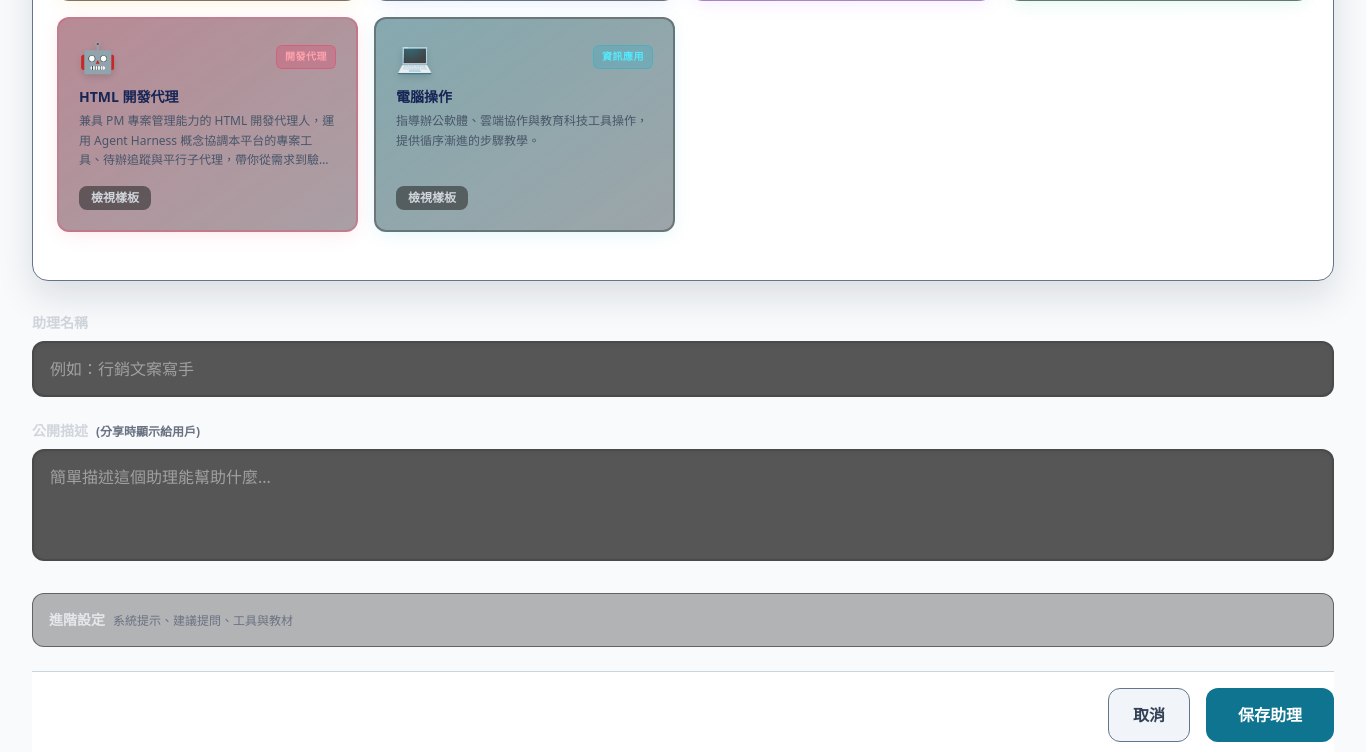
AssistantEditor › shows a retryable save error without dropping the draft
(page scrolled)
Type "保留草稿" into the field labelled "助理名稱" at [683, 368], box [32,340,1334,396]
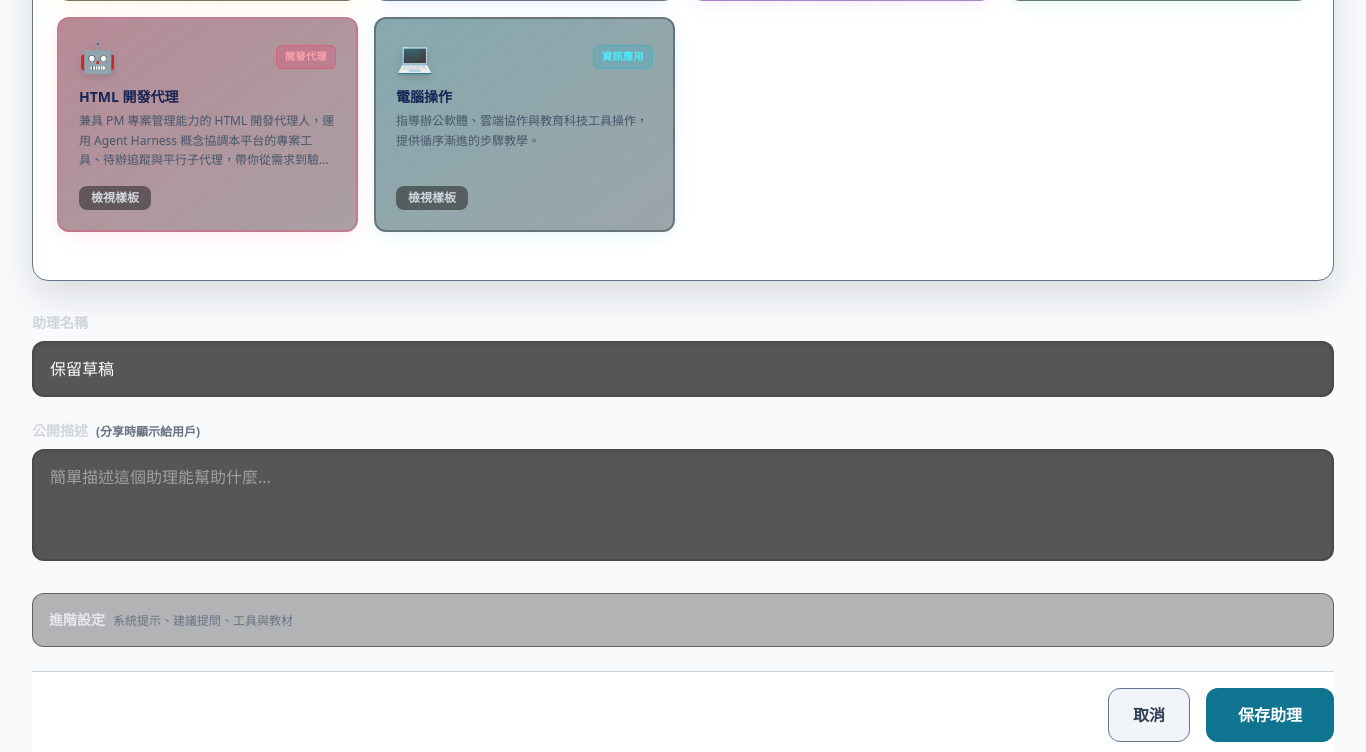
Click the button with test id "save-button" at [1270, 714], box [1206,688,1334,742]
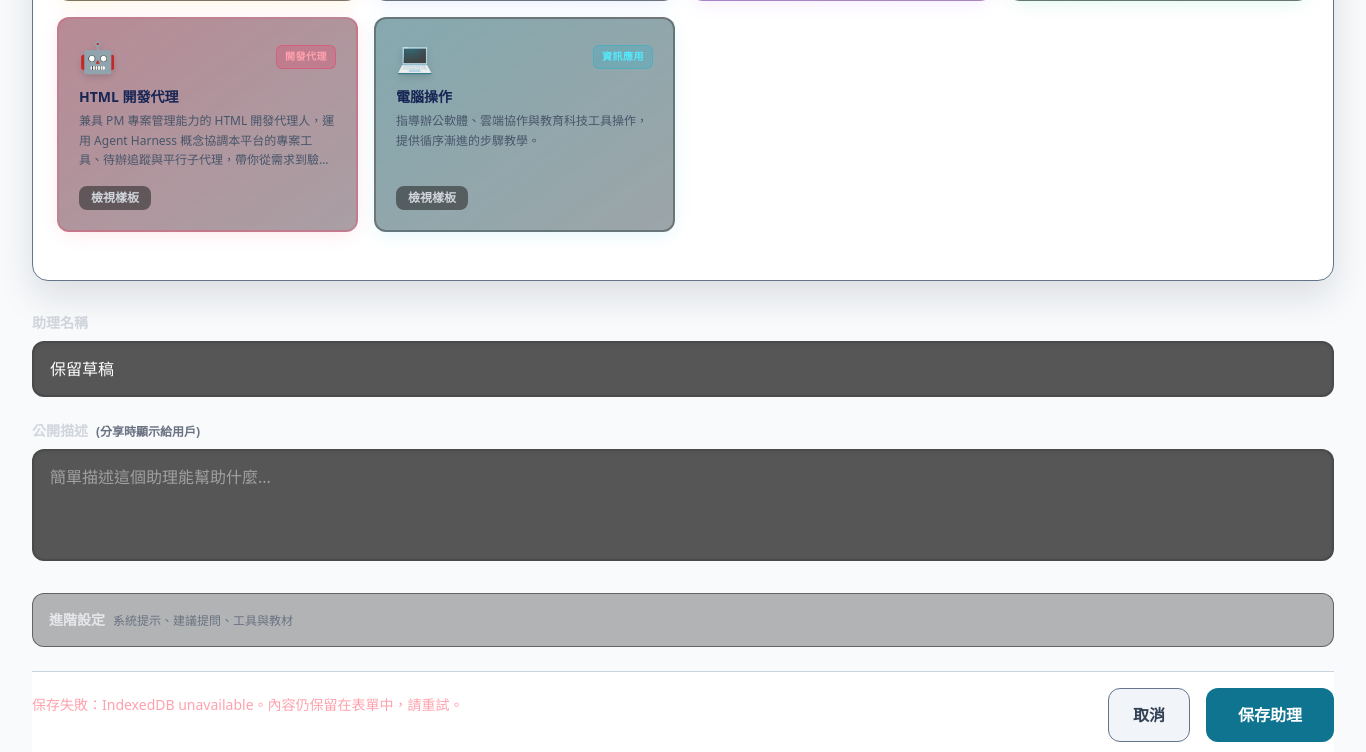
Check: the message with test id "assistant-save-status" shows "IndexedDB unavailable", box [32,694,464,714]
